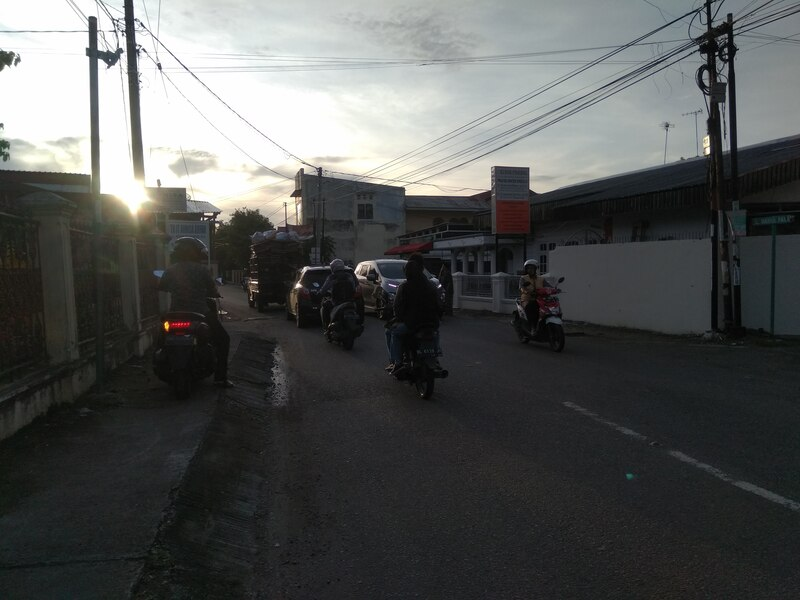car: (353, 257, 457, 323), (286, 261, 364, 331), (242, 253, 318, 313)
motorcycle: (145, 264, 247, 408), (377, 294, 456, 405), (509, 277, 574, 353), (312, 279, 364, 354)
